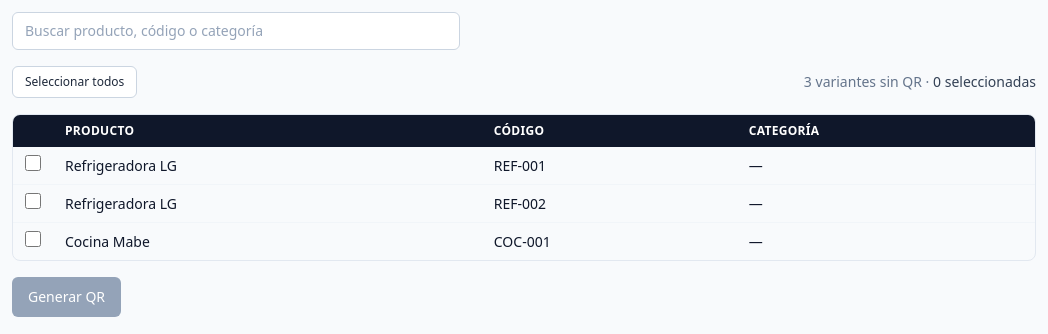
Test case: BulkQrGenerator › "Seleccionar todos" selects every loaded row, and toggles to "Deseleccionar todos"
Click the button "Seleccionar todos".
click(75, 82)  # box [12,66,137,98]
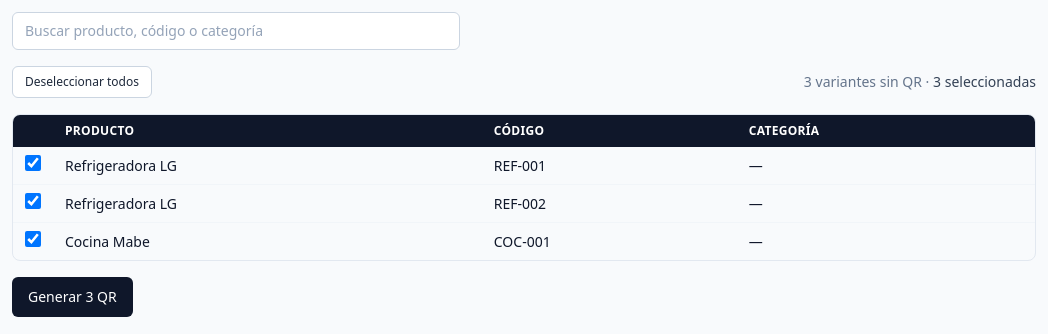
Expected: the text "3 seleccionadas" is shown, [933,72,1036,91]
Expected: the checkbox named "ref-001" is checked, [25,155,41,171]
Expected: the button "Deseleccionar todos" is shown
Click the button "Deseleccionar todos".
click(82, 82)  # box [12,66,152,98]
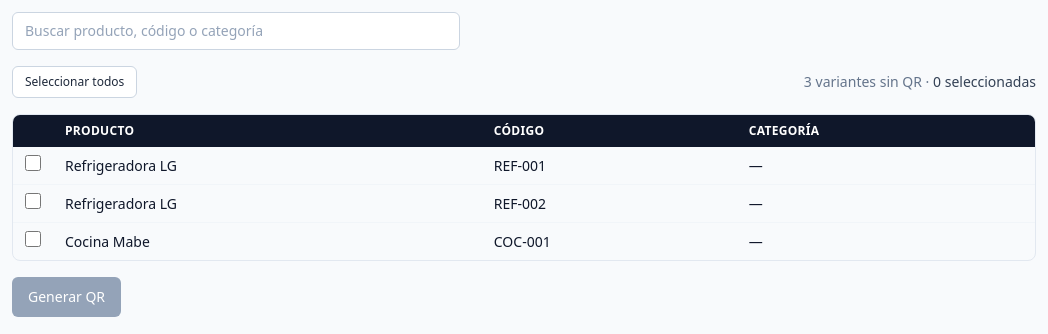
Expected: the text "0 seleccionadas" is shown, [933,72,1036,91]
